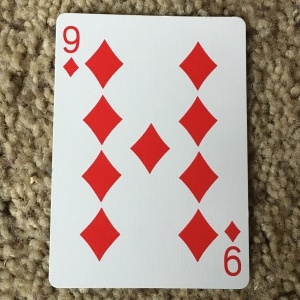card: (49, 11, 251, 289)
